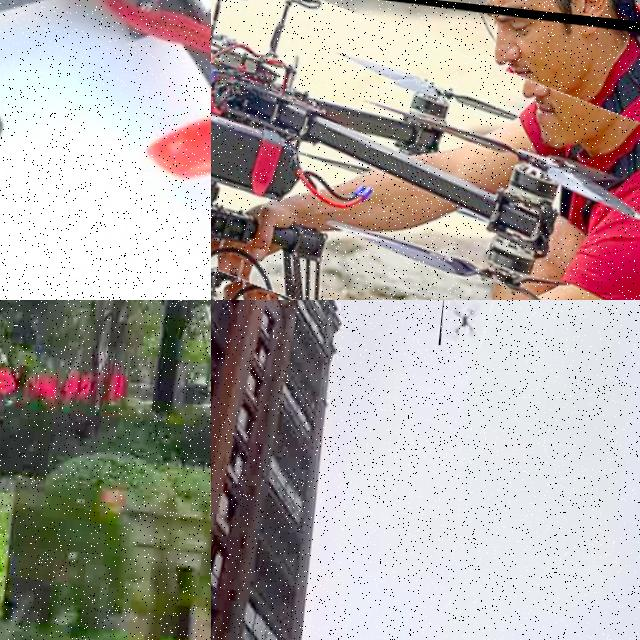drone: (211, 0, 640, 300), (0, 0, 211, 300), (438, 300, 492, 350)
